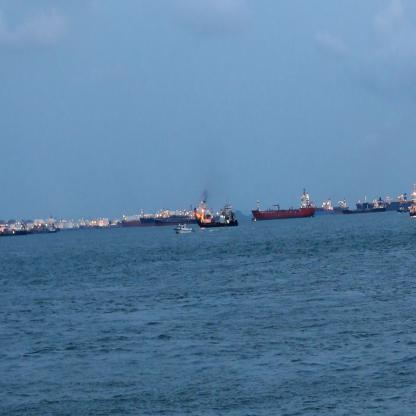Container Ship: (245, 192, 316, 218), (353, 192, 409, 209), (149, 208, 196, 225), (335, 201, 383, 216), (308, 194, 344, 213), (402, 184, 416, 216), (7, 224, 52, 233), (116, 212, 138, 228), (134, 207, 149, 227)
